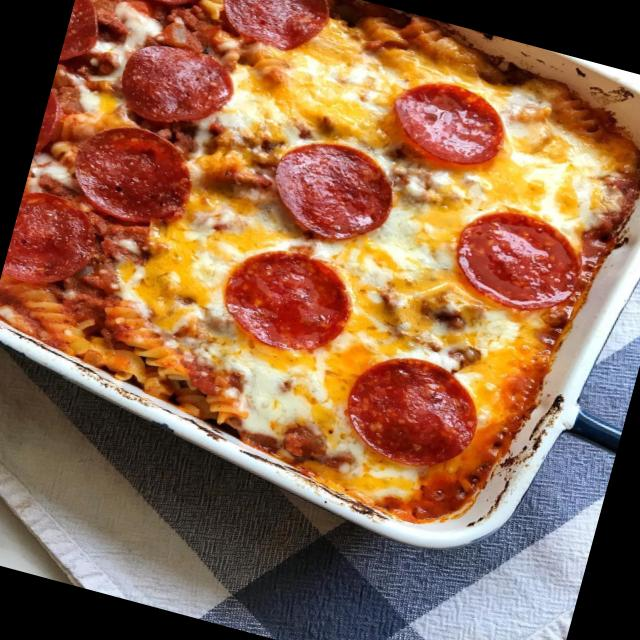pepperoni: (330, 340, 498, 485), (444, 191, 595, 323), (212, 236, 360, 362), (262, 125, 403, 249), (110, 30, 248, 142), (66, 117, 196, 232), (386, 69, 514, 175), (1, 185, 107, 305), (210, 0, 343, 62), (57, 0, 108, 69), (34, 80, 72, 156), (105, 0, 227, 18)
